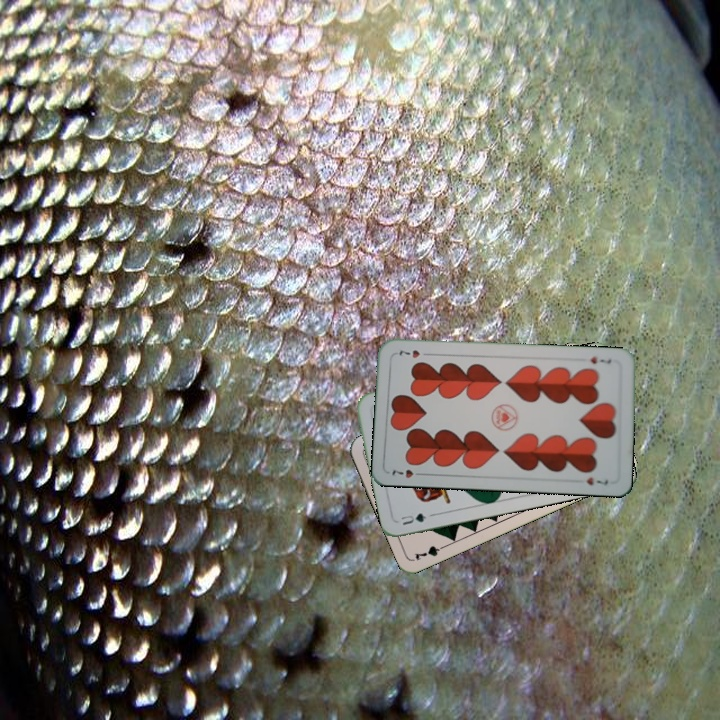G7: (410, 540, 450, 563)
GU: (397, 509, 429, 528)
H7: (388, 465, 427, 481), (587, 353, 614, 366)
